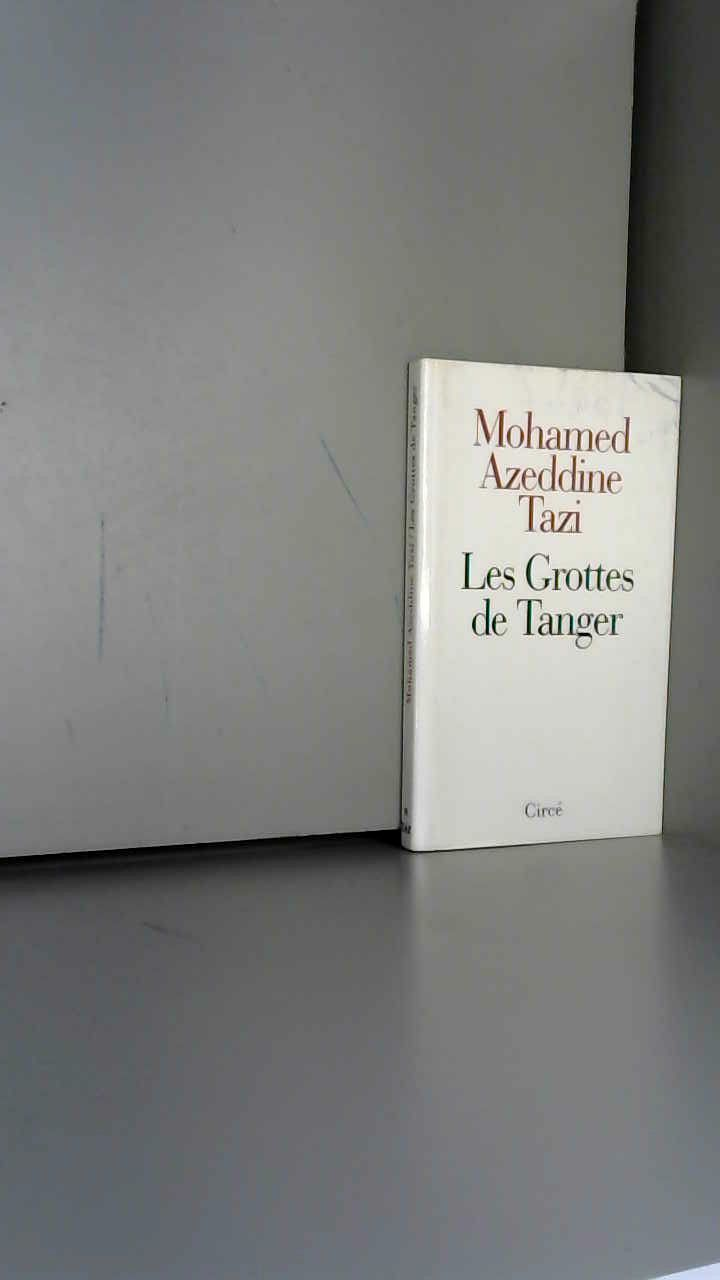book: (390, 330, 720, 904)
